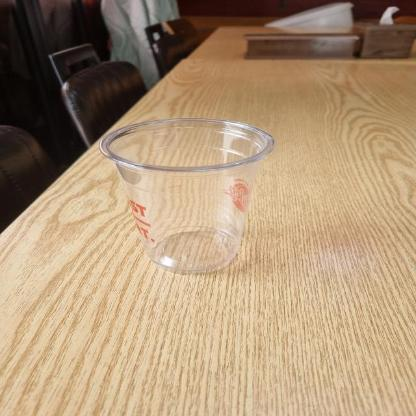Plastic Cup: (101, 116, 275, 276)
